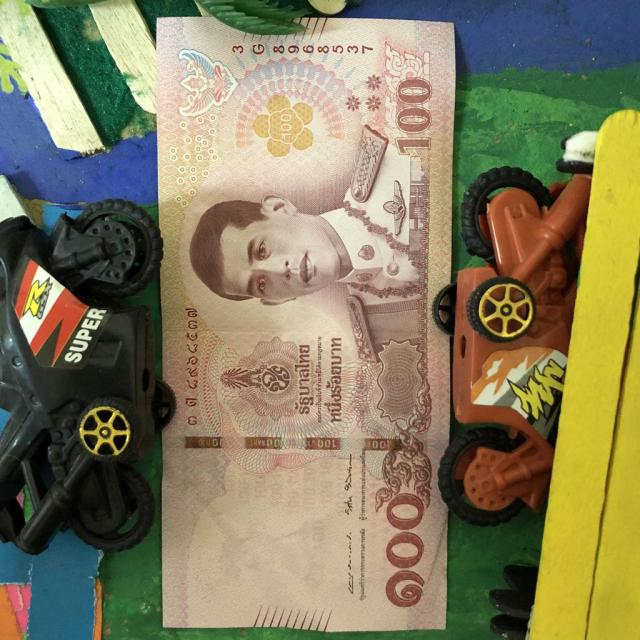THAI100: (156, 18, 455, 631)
